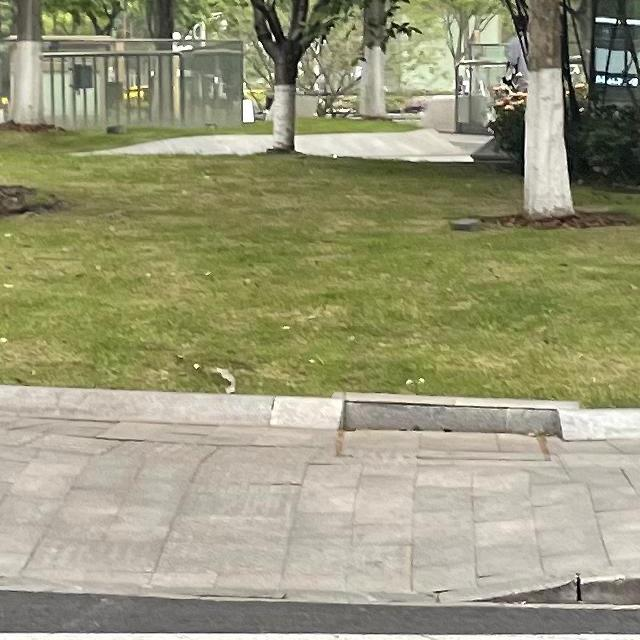curb: (0, 566, 639, 633), (0, 385, 343, 430), (560, 409, 639, 440)
